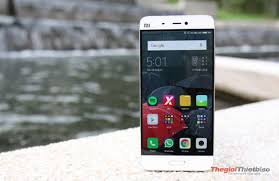mi: (134, 13, 218, 175)
